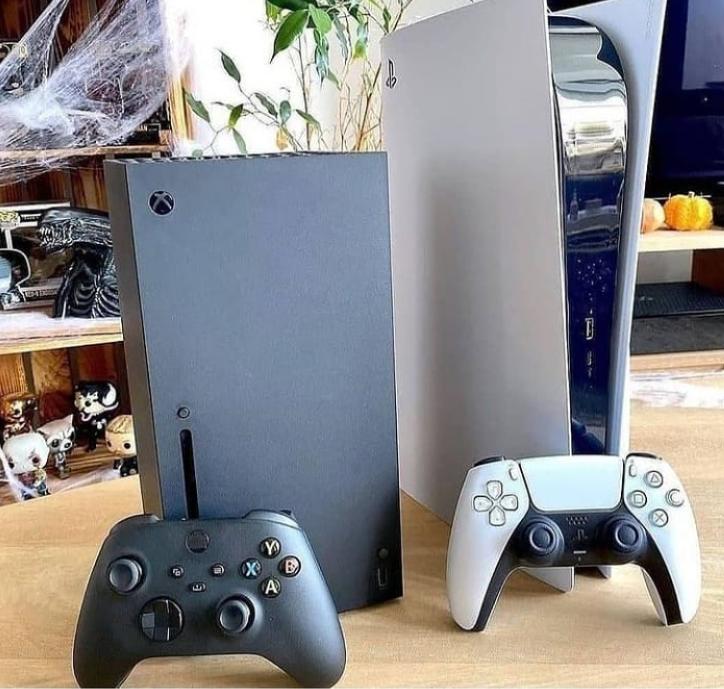gamingconsole: (80, 515, 347, 687), (450, 455, 702, 631)
